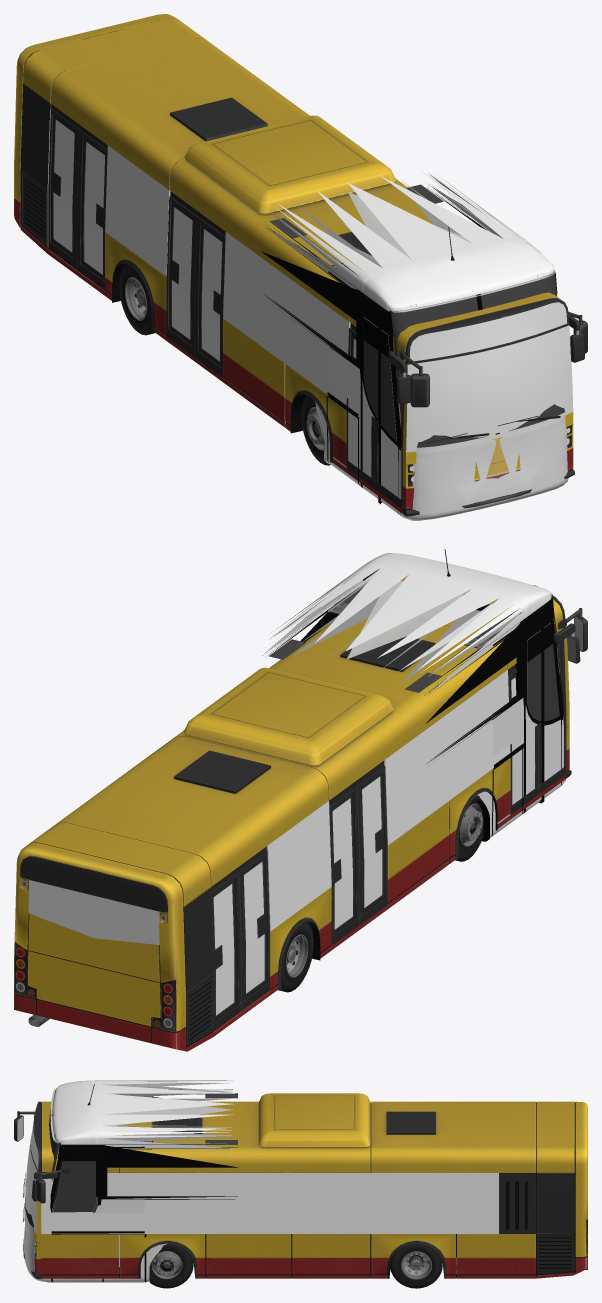
The model's file is hq-city-bus.glb.
3 views of the same model, one above another, from view 1: azimuth 30°, elevation 25°; view 2: azimuth 150°, elevation 25°; view 3: azimuth 270°, elevation 25° (orthographic). The views are drawn at different scales.
Parts seen in each view (by area): view 1: exterior, body, windows, windscreen, door_rf_ok, glass2, door6_gl, door5_gl, door6, door4_gl, door4, door3_gl (+7 smaller); view 2: exterior, body, windows, door_rf_ok, glass2, door6_gl, door5_gl, door4, door5, door3_gl, door4_gl, door3 (+7 smaller); view 3: exterior, windows, body, qurter_win, wheel_2, wheel, refect, reflect, windscreen.
Part boxes in pixels (x1=…): exterior: x1=14, y1=14, x2=587, y2=516; body: x1=261, y1=169, x2=568, y2=520; windows: x1=105, y1=145, x2=573, y2=452; windscreen: x1=391, y1=274, x2=564, y2=447; door_rf_ok: x1=362, y1=314, x2=400, y2=515; glass2: x1=364, y1=318, x2=396, y2=440; door6_gl: x1=53, y1=120, x2=74, y2=251; door5_gl: x1=84, y1=142, x2=104, y2=274; door6: x1=48, y1=109, x2=79, y2=269; door4_gl: x1=172, y1=207, x2=192, y2=339; door4: x1=166, y1=196, x2=198, y2=356; door3_gl: x1=202, y1=229, x2=222, y2=361; exterior: x1=14, y1=575, x2=587, y2=1051; body: x1=262, y1=549, x2=565, y2=841; windows: x1=28, y1=670, x2=510, y2=944; door_rf_ok: x1=525, y1=619, x2=561, y2=812; glass2: x1=527, y1=623, x2=559, y2=721; door6_gl: x1=213, y1=884, x2=234, y2=1015; door5_gl: x1=244, y1=862, x2=264, y2=993; door4: x1=329, y1=786, x2=359, y2=945; door5: x1=238, y1=851, x2=269, y2=1010; door3_gl: x1=362, y1=776, x2=382, y2=907; door4_gl: x1=332, y1=798, x2=352, y2=929; door3: x1=356, y1=765, x2=387, y2=924; exterior: x1=14, y1=1093, x2=587, y2=1278; windows: x1=25, y1=1123, x2=498, y2=1233; body: x1=24, y1=1080, x2=238, y2=1282; qurter_win: x1=53, y1=1093, x2=237, y2=1212; wheel_2: x1=390, y1=1243, x2=442, y2=1288; wheel: x1=150, y1=1243, x2=193, y2=1288; refect: x1=151, y1=1251, x2=182, y2=1279; reflect: x1=401, y1=1251, x2=431, y2=1279; windscreen: x1=25, y1=1109, x2=59, y2=1227.
Bounding box in the file's own units: 2.81 × 3.52 × 10.29.
Materials: 39 (35 with a texture image).
